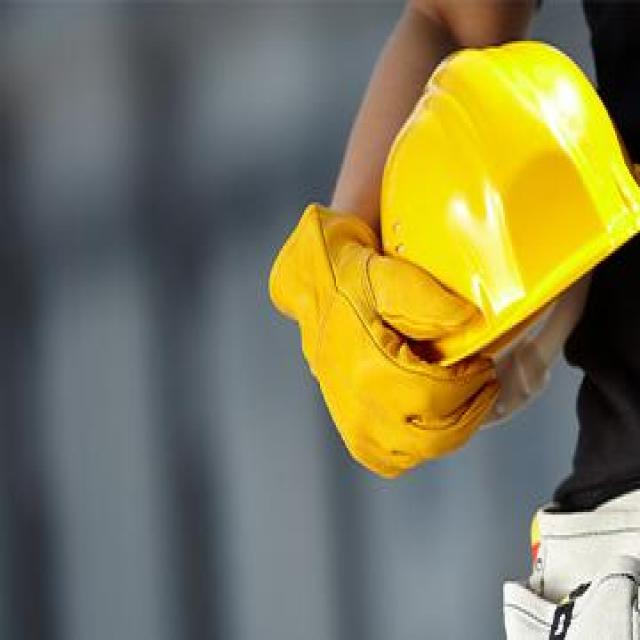Safety-Helmet: (373, 41, 640, 369)
